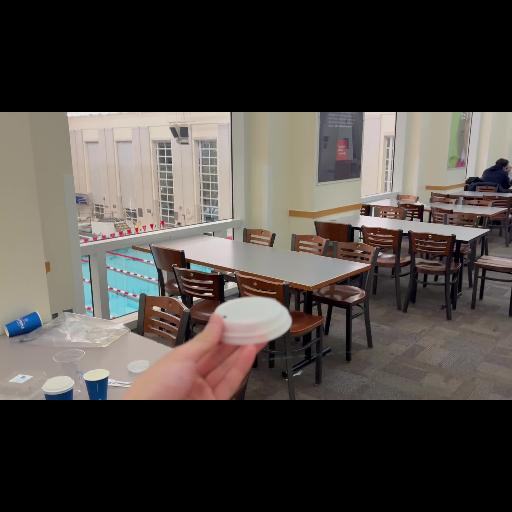lp_cup_lids: (214, 290, 292, 342)
lp_paper_cup: (6, 312, 44, 338), (43, 372, 77, 400), (85, 368, 111, 400)
lp_plastic_cup: (54, 348, 86, 390)
